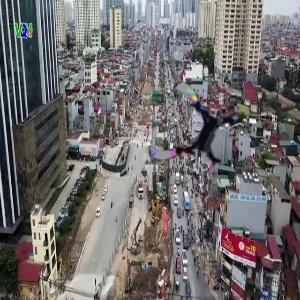drone: (151, 89, 238, 176)
